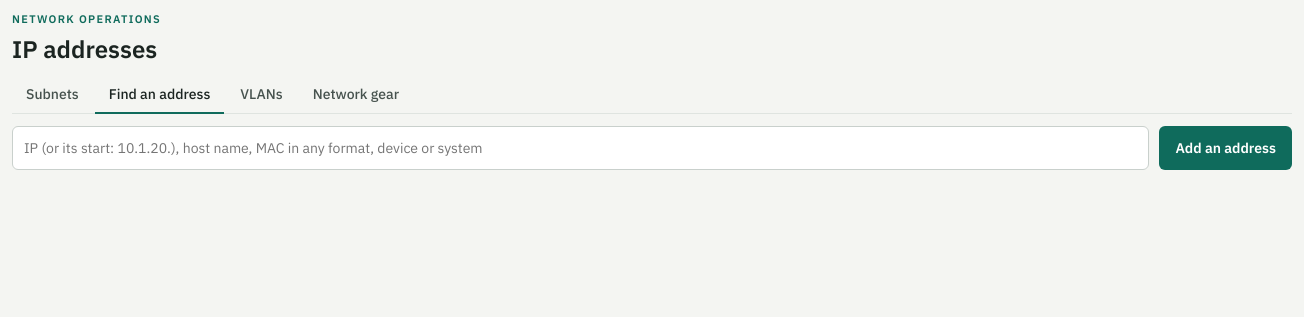
Test: an address shows the switch port it's on
Type "prn" into the search field named "Find an address" at (581, 148), box top-left (12, 126), bottom-right (1149, 170)
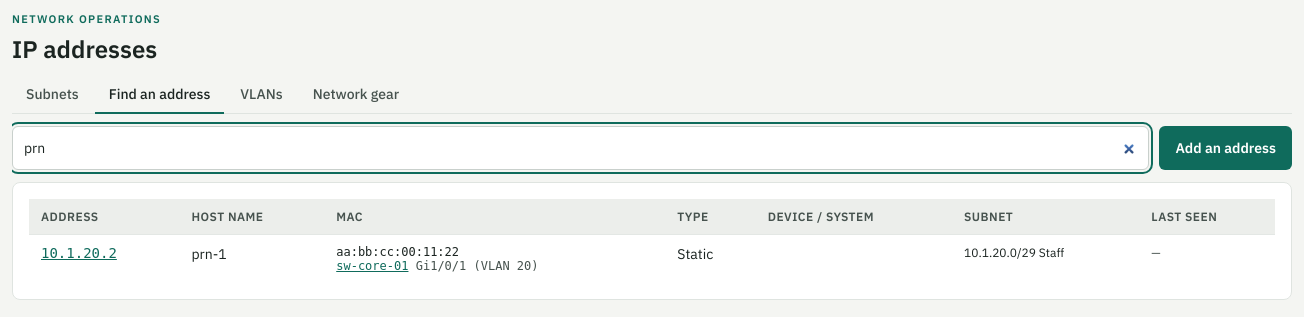
Expected: the text "sw-core-01 Gi1/0/1 (VLAN 20)" is shown, top-left (336, 259), bottom-right (538, 273)
